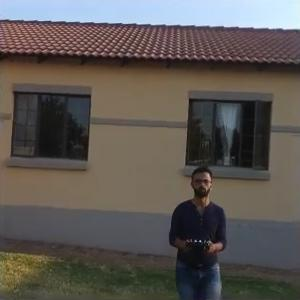follow: (163, 162, 229, 298)
